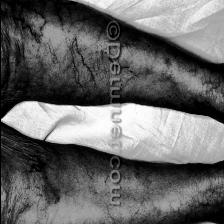Toxin: (30, 172, 64, 217), (13, 10, 42, 48)
